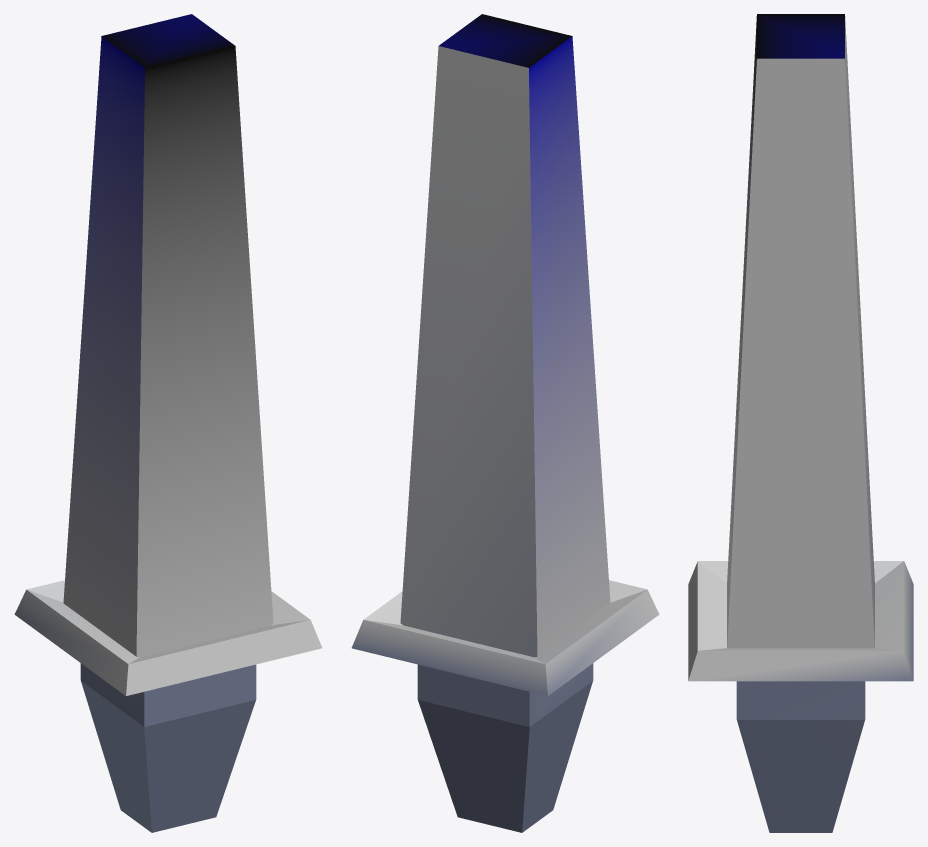
Rendered from test_blade.gltf.
3 views of the same model, side by side, from view 1: azimuth 30°, elevation 25°; view 2: azimuth 150°, elevation 25°; view 3: azimuth 270°, elevation 25° (orthographic).
Parts seen in each view (by area): view 1: model; view 2: model; view 3: model.
Boxes of the visible parts, <box> form: model: <box>14,14,322,832</box>; model: <box>351,14,659,832</box>; model: <box>688,14,913,832</box>.
Bounding box in the file's own units: 2.11 × 7.93 × 2.07.
